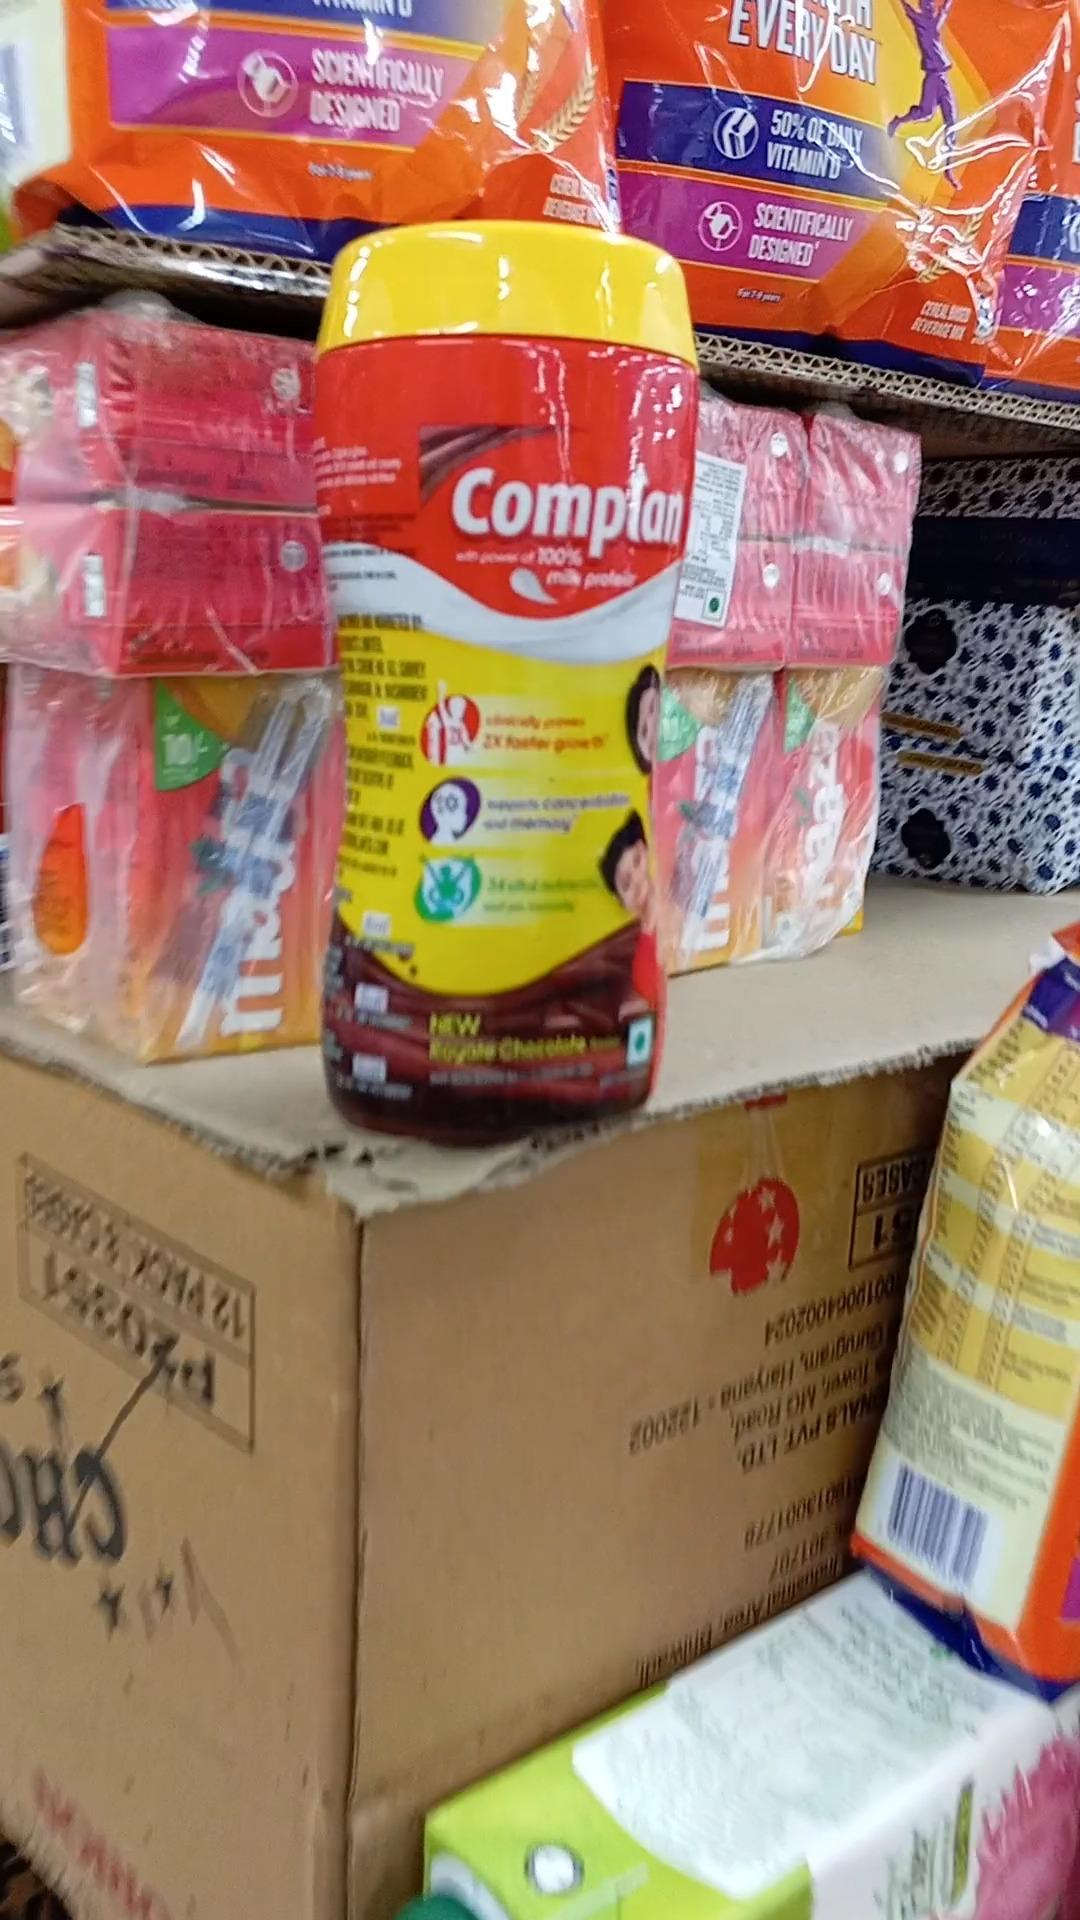COMPLAN_CHOCOLATE_200_GMS_JAR: (315, 232, 674, 1126)
